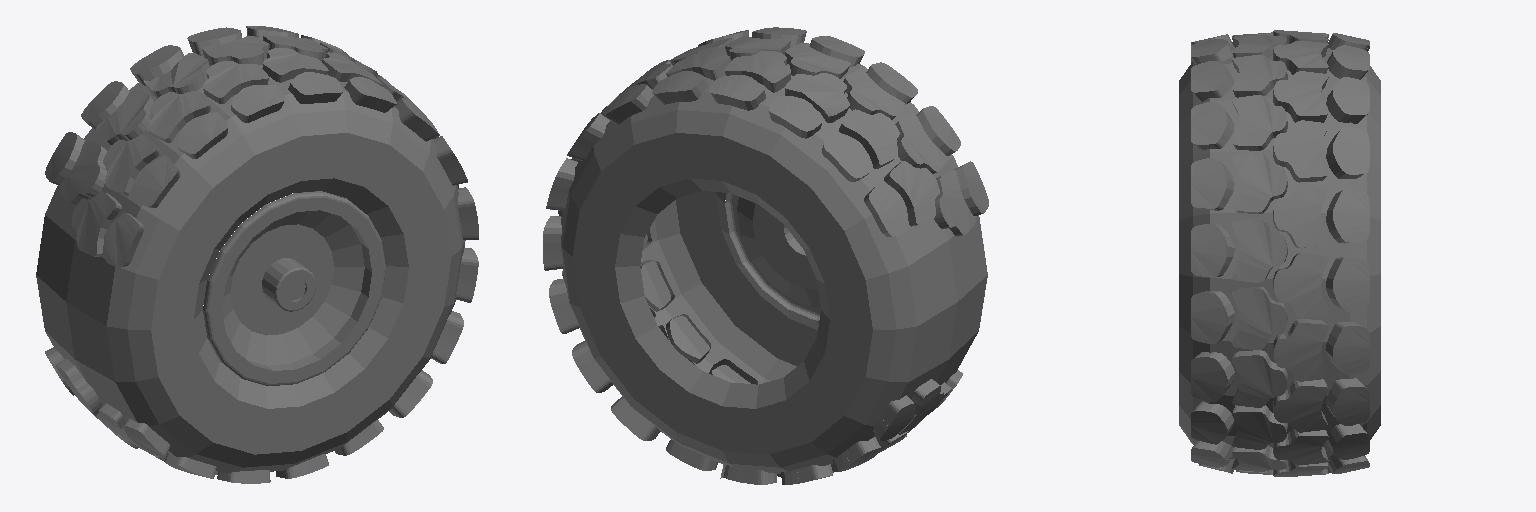
File: Tire_Surface.obj
3 renders of one model, left to right at view 1: azimuth 30°, elevation 25°; view 2: azimuth 150°, elevation 25°; view 3: azimuth 270°, elevation 25°, orthographic.
Parts seen in each view (by area): view 1: polySurface1, polySurface315, polySurface2; view 2: polySurface1, polySurface315, polySurface2; view 3: polySurface315, polySurface1.
Boxes of the visible parts, box(x1,y1,x2,y2) form: polySurface1: box(36, 52, 465, 473); polySurface315: box(45, 26, 478, 483); polySurface2: box(203, 191, 385, 385); polySurface1: box(561, 42, 987, 473); polySurface315: box(543, 27, 988, 484); polySurface2: box(725, 193, 820, 320); polySurface315: box(1191, 30, 1369, 476); polySurface1: box(1179, 45, 1380, 459).
Bounding box in the file's own units: 75.85 × 77.58 × 34.88.